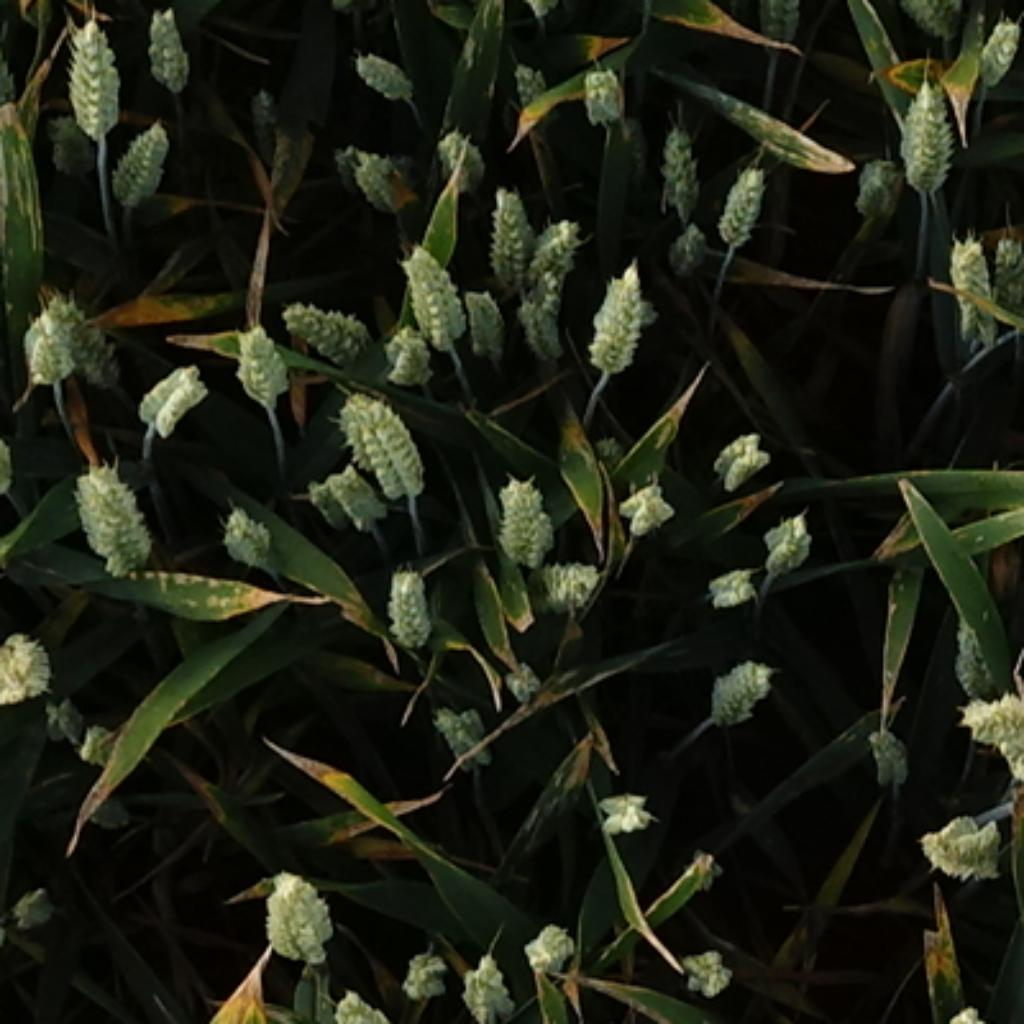0-0: (66, 450, 158, 568), (332, 381, 430, 491), (494, 199, 583, 312), (256, 857, 343, 960), (888, 71, 962, 189), (58, 12, 128, 135), (581, 261, 655, 368), (396, 235, 471, 340), (427, 691, 511, 784), (913, 796, 1011, 875), (43, 286, 120, 386), (942, 222, 1000, 348), (279, 286, 378, 358), (954, 673, 1024, 770), (20, 276, 79, 391), (488, 465, 558, 560), (483, 181, 542, 291), (104, 112, 176, 202), (698, 645, 778, 721), (135, 353, 212, 427), (711, 156, 775, 243), (227, 314, 291, 399), (378, 558, 440, 645), (524, 542, 604, 609), (335, 137, 412, 206), (138, 2, 197, 87), (650, 117, 704, 209), (458, 944, 517, 1021), (706, 419, 775, 483), (327, 977, 419, 1024), (330, 465, 394, 532), (1, 636, 55, 715), (755, 501, 816, 570), (519, 279, 568, 363), (217, 496, 281, 560), (345, 38, 417, 94), (849, 148, 908, 215), (576, 53, 632, 122), (857, 711, 913, 780), (460, 286, 512, 360), (670, 934, 734, 993), (432, 117, 488, 184), (2, 885, 71, 939), (979, 10, 1024, 92), (598, 783, 662, 839), (614, 471, 675, 529), (71, 721, 130, 780), (522, 911, 583, 967), (384, 317, 435, 381), (38, 696, 92, 755), (979, 224, 1023, 295), (701, 552, 760, 604), (399, 939, 453, 995), (905, 0, 977, 42), (304, 473, 345, 540), (663, 215, 714, 268), (494, 650, 545, 696), (953, 623, 981, 694), (510, 66, 556, 108), (84, 796, 143, 826), (600, 438, 620, 456)
